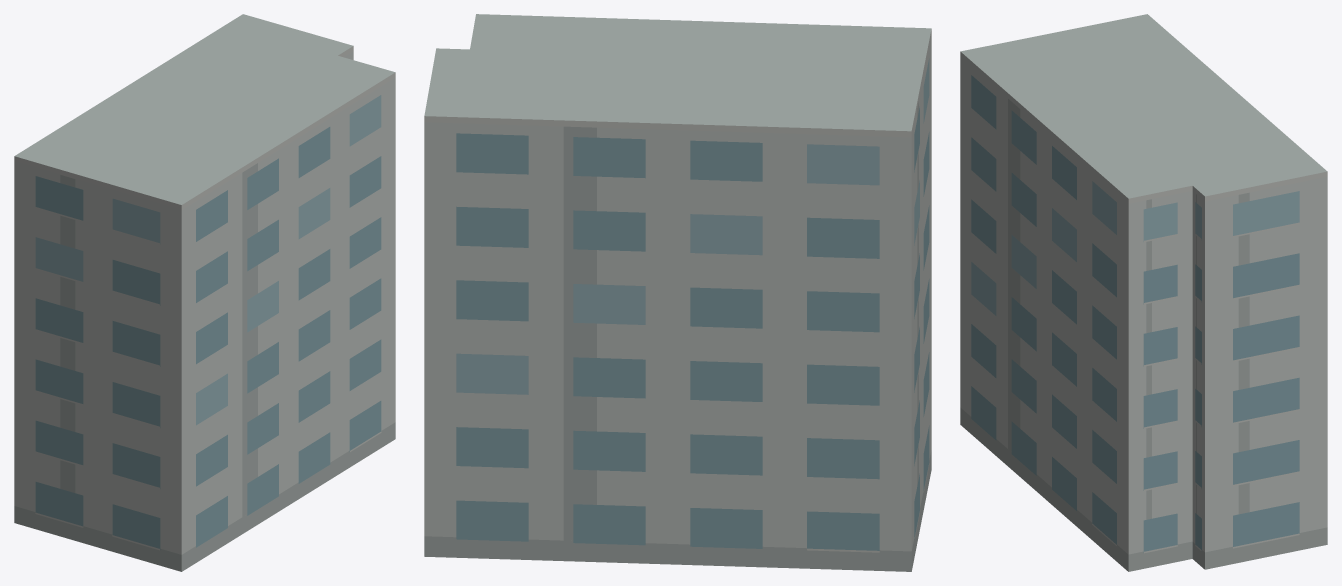
Rendered from survey-upis-32707396.glb.
The picture shows the model from 3 angles, left to right: view 1: azimuth 30°, elevation 25°; view 2: azimuth 150°, elevation 25°; view 3: azimuth 270°, elevation 25°; orthographic projection. The views are drawn at different scales.
Parts seen in each view (by area): view 1: survey-upis-32707396.tmp; view 2: survey-upis-32707396.tmp; view 3: survey-upis-32707396.tmp.
Part boxes in pixels (<box>): survey-upis-32707396.tmp: <box>14,14,395,571</box>; survey-upis-32707396.tmp: <box>424,14,931,571</box>; survey-upis-32707396.tmp: <box>960,14,1327,571</box>.
Bounding box in the file's own units: 18.47 × 17.4 × 15.53.
